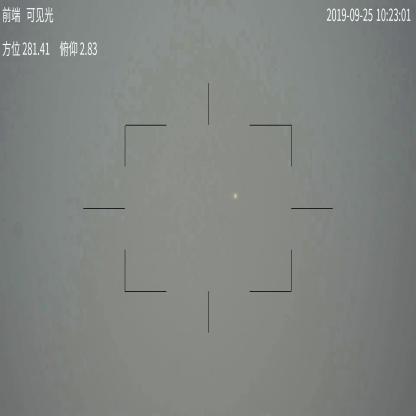uav: (233, 194, 238, 199)
